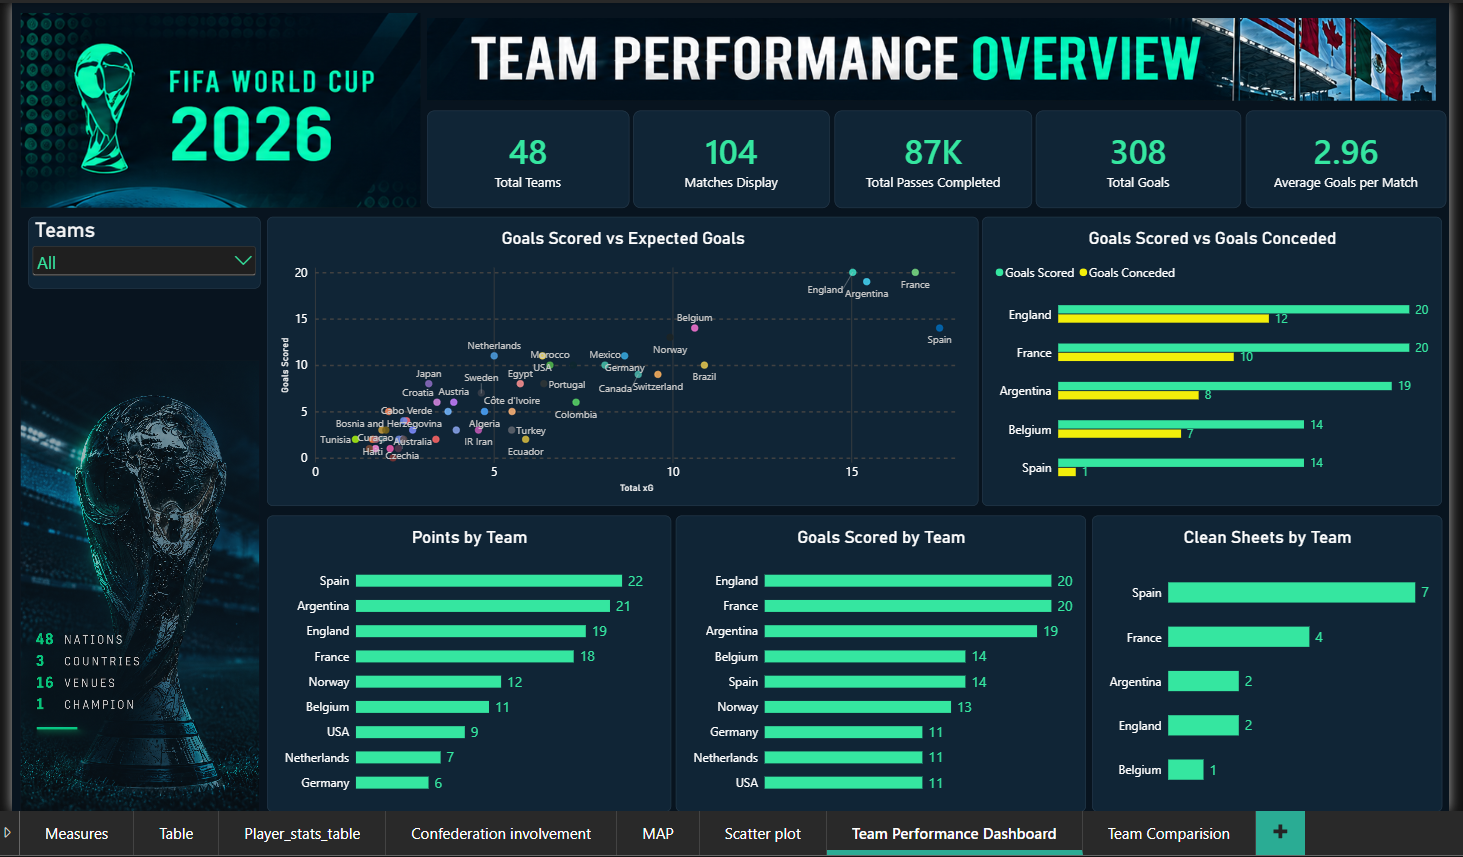

Layout of this report page (visuals, bound fields, positions):
{"tool":"powerbi","page":{"name":"Team Performance Dashboard","canvas":[1920,1080],"ordinal":6},"visuals":[{"type":"card","title":"Matches Played","fields":{"Values":["matches_table.Matches Display"]},"box":[830,144,262,130],"z":0},{"type":"card","fields":{"Values":["matches_table.Average Goals per Match"]},"box":[1648,144,268,130],"z":1000},{"type":"clusteredBarChart","title":"Goals Scored by Team","fields":{"Category":["teams_table.team_name"],"Y":["matches_table.Goals Scored"]},"box":[886,684,548,396],"z":2000},{"type":"clusteredBarChart","title":"Points by Team","fields":{"Category":["teams_table.team_name"],"Y":["matches_table.Points"]},"box":[340,684,540,396],"z":3000},{"type":"clusteredBarChart","title":"Goals Scored vs Goals Conceded","fields":{"Category":["teams_table.team_name"],"Y":["matches_table.Goals Scored","matches_table.Goals Conceded"]},"box":[1296,286,614,386],"z":4000},{"type":"clusteredBarChart","title":"Clean Sheets by Team","fields":{"Category":["teams_table.team_name"],"Y":["matches_table.Clean Sheets"]},"box":[1442,684,468,396],"z":5000},{"type":"scatterChart","title":"Goals Scored vs Expected Goals","fields":{"Series":["teams_table.team_name"],"X":["player_stats_table.Total xG"],"Y":["matches_table.Goals Scored"]},"box":[340,286,950,386],"z":6000},{"type":"slicer","title":"Goals Scored by Team","fields":{"Values":["teams_table.team_name"]},"box":[22.1,285.3,310,96],"z":7000},{"type":"image","box":[12,478,318,602],"z":8000},{"type":"card","fields":{"Values":["teams_table.Total Teams"]},"box":[554,144,270,130],"z":9000},{"type":"card","fields":{"Values":["player_stats_table.Total Passes Completed"]},"box":[1098,144,264,130],"z":10000},{"type":"card","fields":{"Values":["matches_table.Total Goals"]},"box":[1368,144,274,130],"z":11000},{"type":"image","box":[12,14,534,260],"z":12000},{"type":"image","box":[554,20,1348,110],"z":13000}]}

Visuals, with their boxes on the page's 1920x1080 design canvas (x1, y1, x2, y2). These are canvas units, not pixel positions in the 1463x857 screenshot, which may show the page scaled, cropped or inside an application window:
"Matches Played" card: left=830, top=144, right=1092, bottom=274
card - matches_table.Average Goals per Match: left=1648, top=144, right=1916, bottom=274
"Goals Scored by Team" clusteredBarChart: left=886, top=684, right=1434, bottom=1080
"Points by Team" clusteredBarChart: left=340, top=684, right=880, bottom=1080
"Goals Scored vs Goals Conceded" clusteredBarChart: left=1296, top=286, right=1910, bottom=672
"Clean Sheets by Team" clusteredBarChart: left=1442, top=684, right=1910, bottom=1080
"Goals Scored vs Expected Goals" scatterChart: left=340, top=286, right=1290, bottom=672
"Goals Scored by Team" slicer: left=22, top=285, right=332, bottom=381
image: left=12, top=478, right=330, bottom=1080
card - teams_table.Total Teams: left=554, top=144, right=824, bottom=274
card - player_stats_table.Total Passes Completed: left=1098, top=144, right=1362, bottom=274
card - matches_table.Total Goals: left=1368, top=144, right=1642, bottom=274
image: left=12, top=14, right=546, bottom=274
image: left=554, top=20, right=1902, bottom=130
